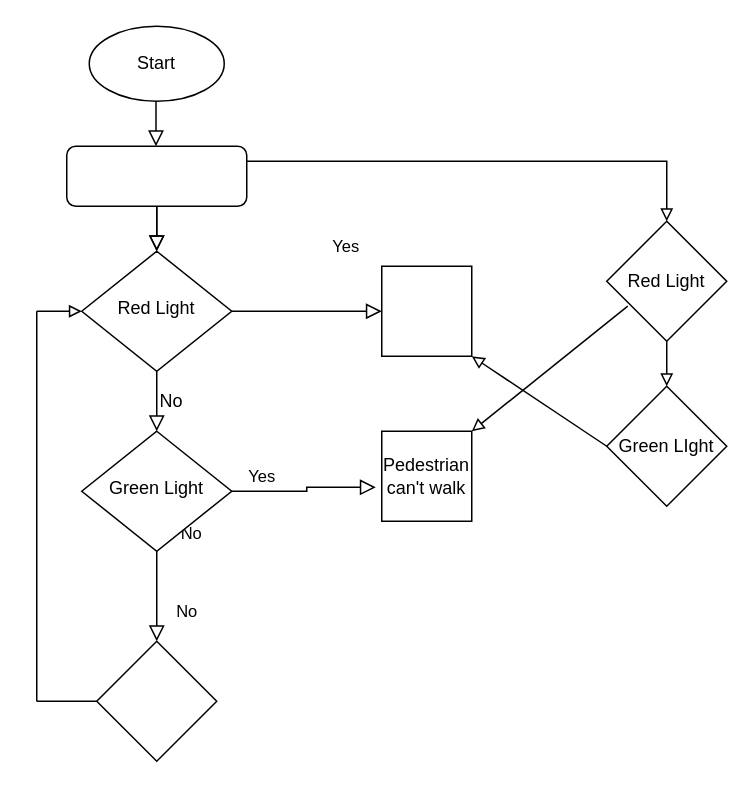
This 753x788 diagram has some shape labels left out. Here are the shapes that lost their labels. From the top down, the centre of each, then its label:
(x=156, y=175): Traffic Signal
(x=426, y=310): Pedestrian can walk
(x=156, y=700): Yellow Light
